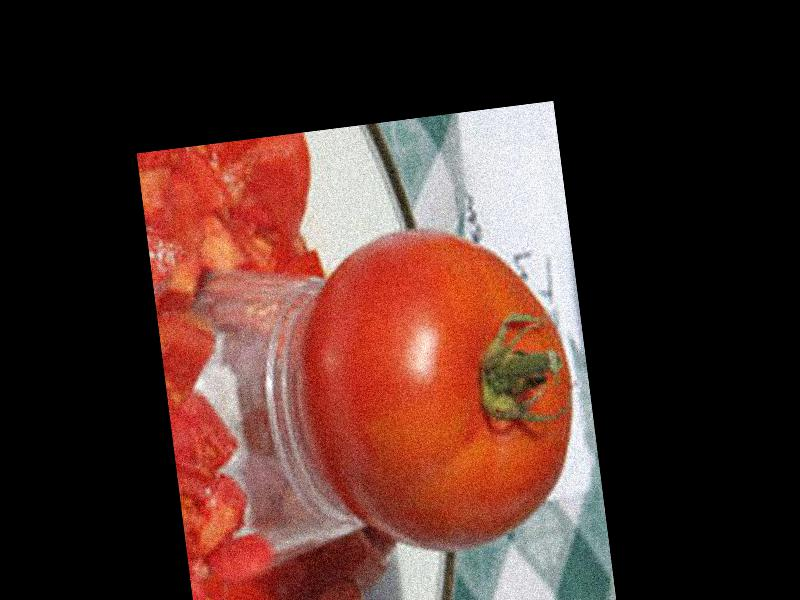Tomato: (285, 209, 593, 567)
